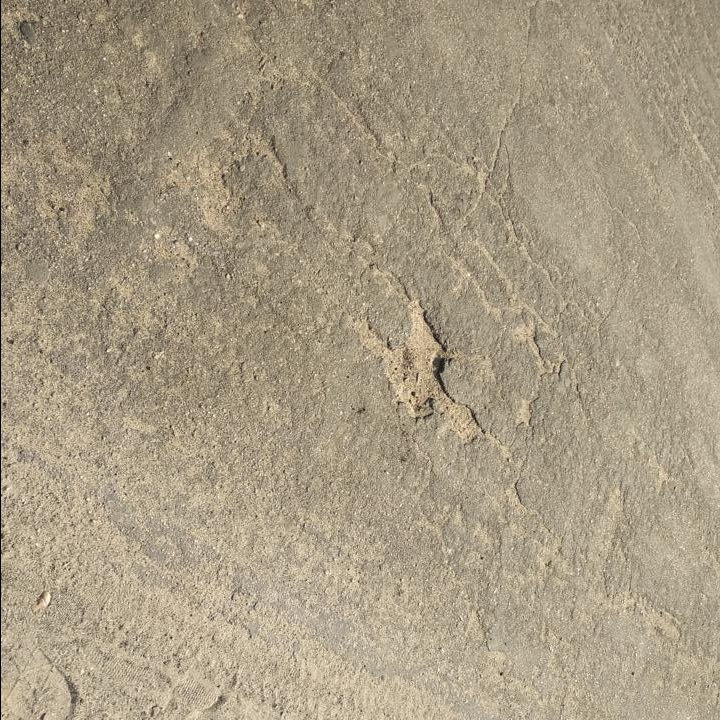pothole: (380, 294, 451, 426), (451, 399, 487, 448)
